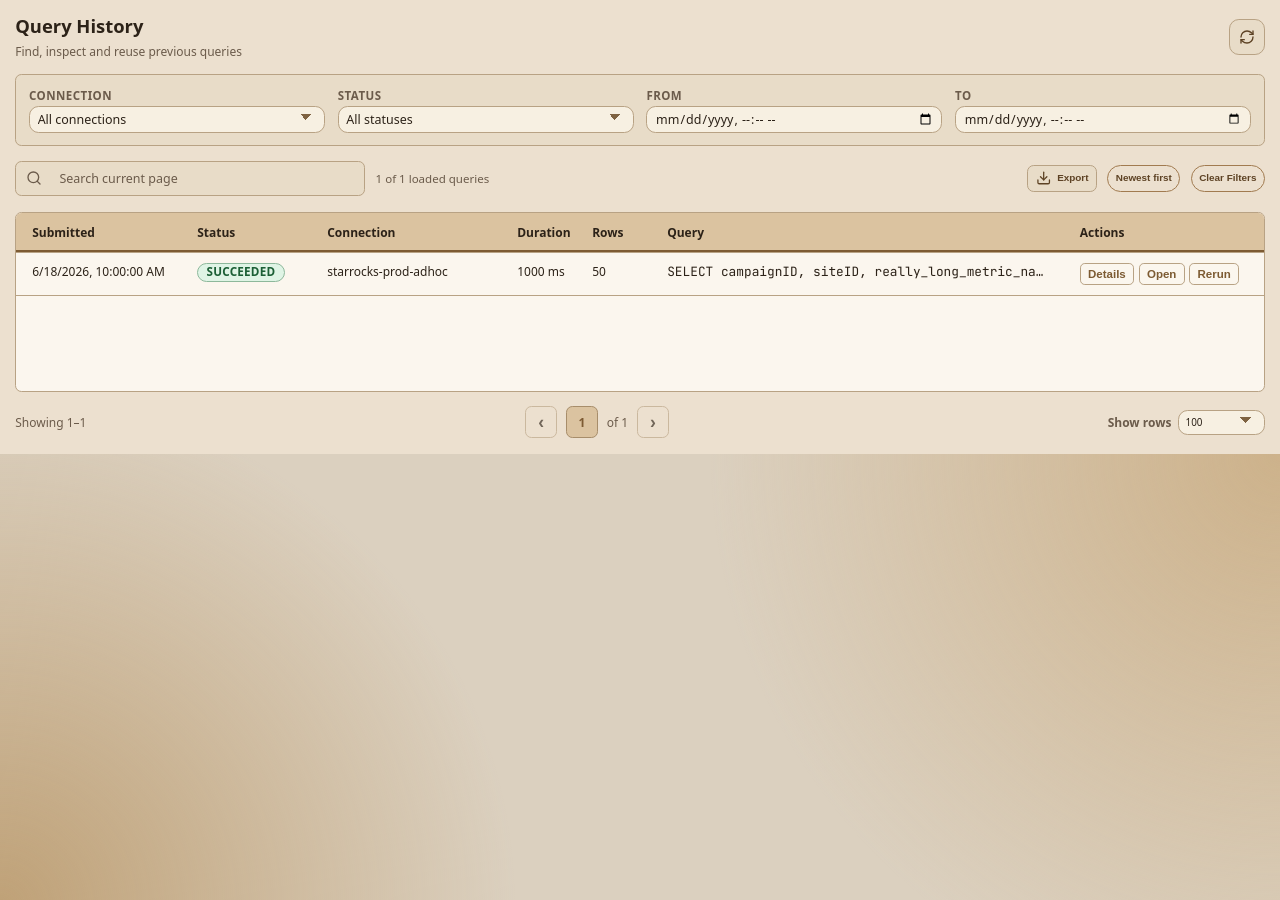
Test: QueryHistorySection › renders governed query justification in history rows
Click the button "Details": (1107, 274) [1080, 263, 1134, 285]
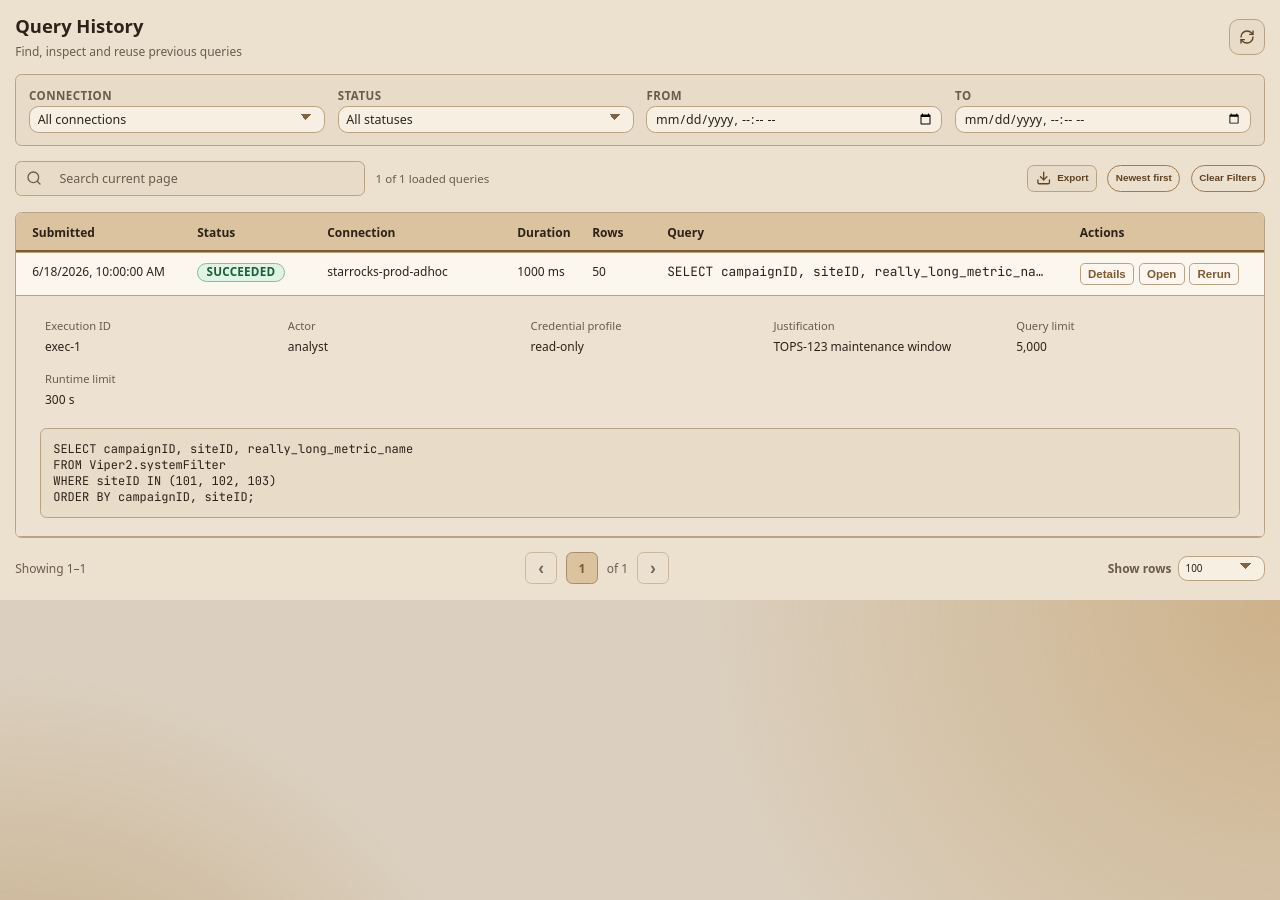
Expected: the text "Justification" is shown, [773, 318, 835, 333]
Expected: the text "TOPS-123 maintenance window" is shown, [773, 338, 951, 355]
